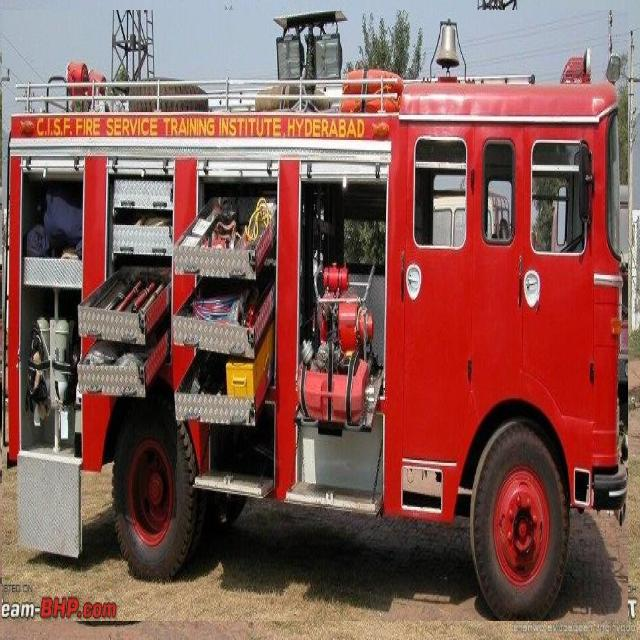emergency: (2, 11, 628, 621)
